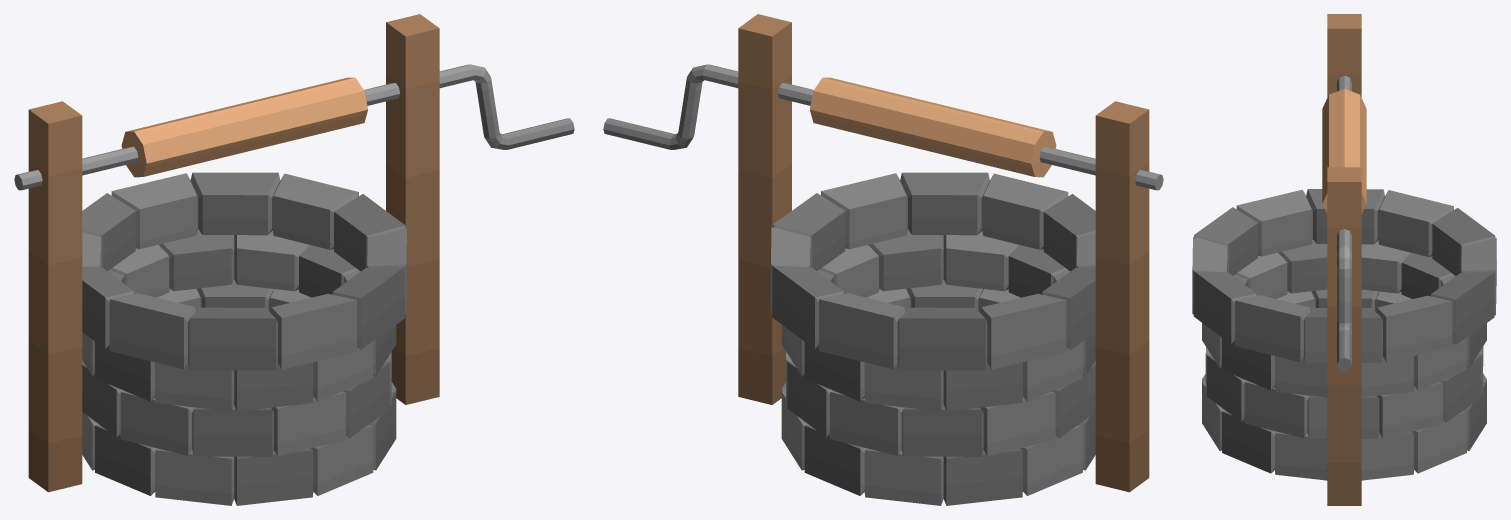
The model's file is well.glb.
The picture shows the model from 3 angles, left to right: view 1: azimuth 30°, elevation 25°; view 2: azimuth 150°, elevation 25°; view 3: azimuth 270°, elevation 25°; orthographic projection. The views are drawn at different scales.
Parts seen in each view (by area): view 1: well; view 2: well; view 3: well.
Part boxes in pixels (x1,y1,x2,y2): well: (14, 14, 574, 505); well: (603, 14, 1163, 505); well: (1192, 14, 1496, 505).
Bounding box in the file's own units: 4.07 × 2.6 × 2.21.
1 material, 1 textured.
